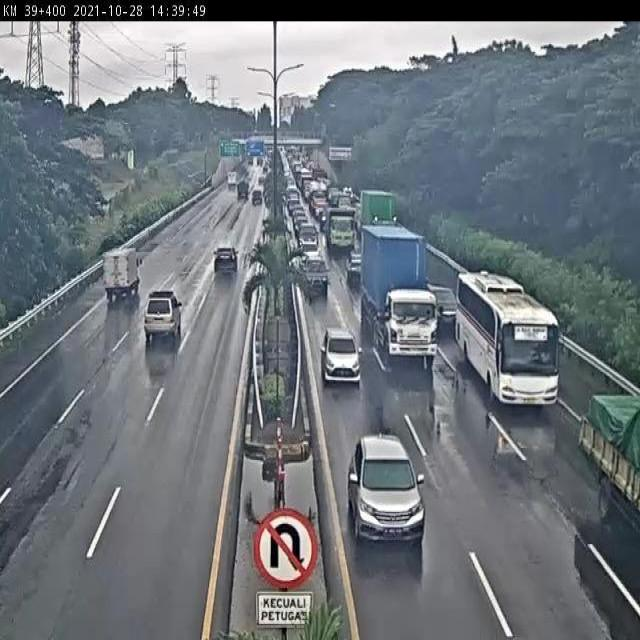big bus: (455, 265, 561, 408)
big truck: (362, 225, 442, 364)
car: (347, 435, 425, 545), (140, 288, 186, 341), (320, 327, 360, 385), (427, 276, 458, 327), (300, 250, 331, 298), (209, 240, 240, 277), (295, 222, 320, 254), (346, 245, 363, 283)
mid truck: (322, 207, 358, 252)
small truck: (100, 249, 142, 303)
truck-m-: (577, 393, 640, 547)
